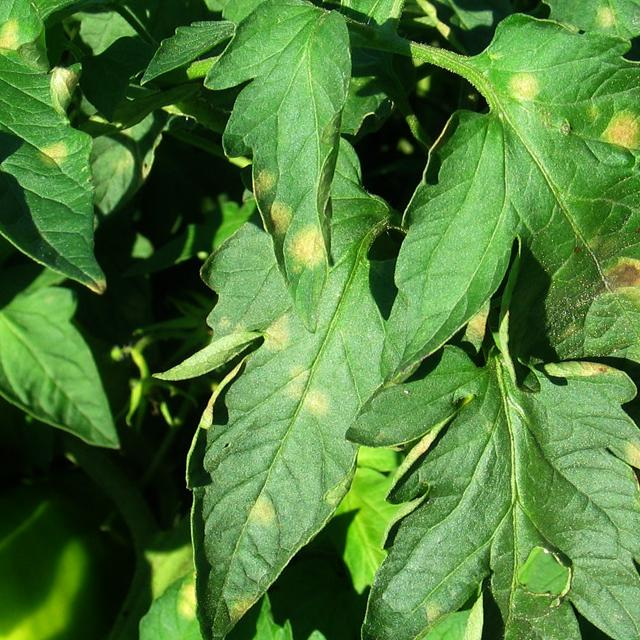Tomato mold leaf: (139, 185, 415, 640), (381, 0, 640, 421), (351, 358, 640, 640), (223, 0, 353, 335), (0, 0, 112, 278)
